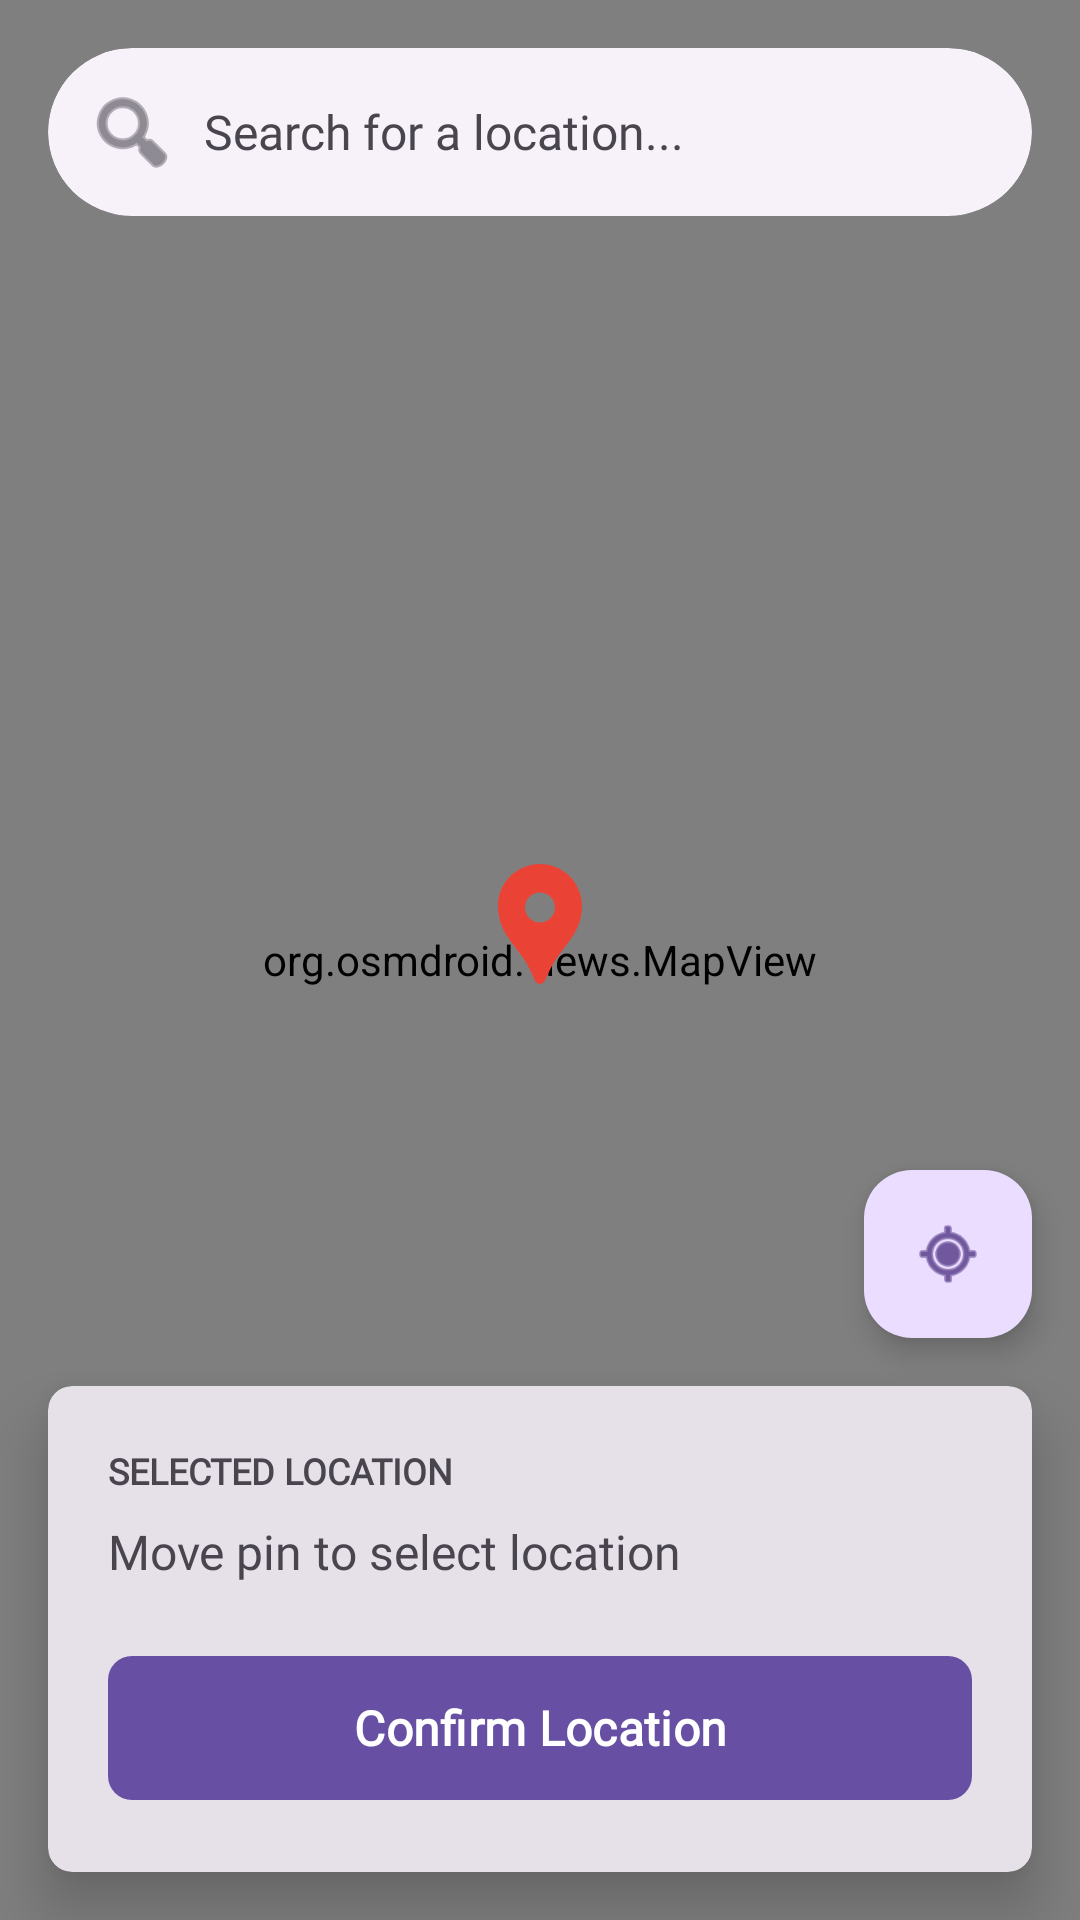

Named icons in this screenshot (1080 x 1920) and their centers, point (x, y):
location pin: point (545, 924)
My Location: point (948, 1254)
